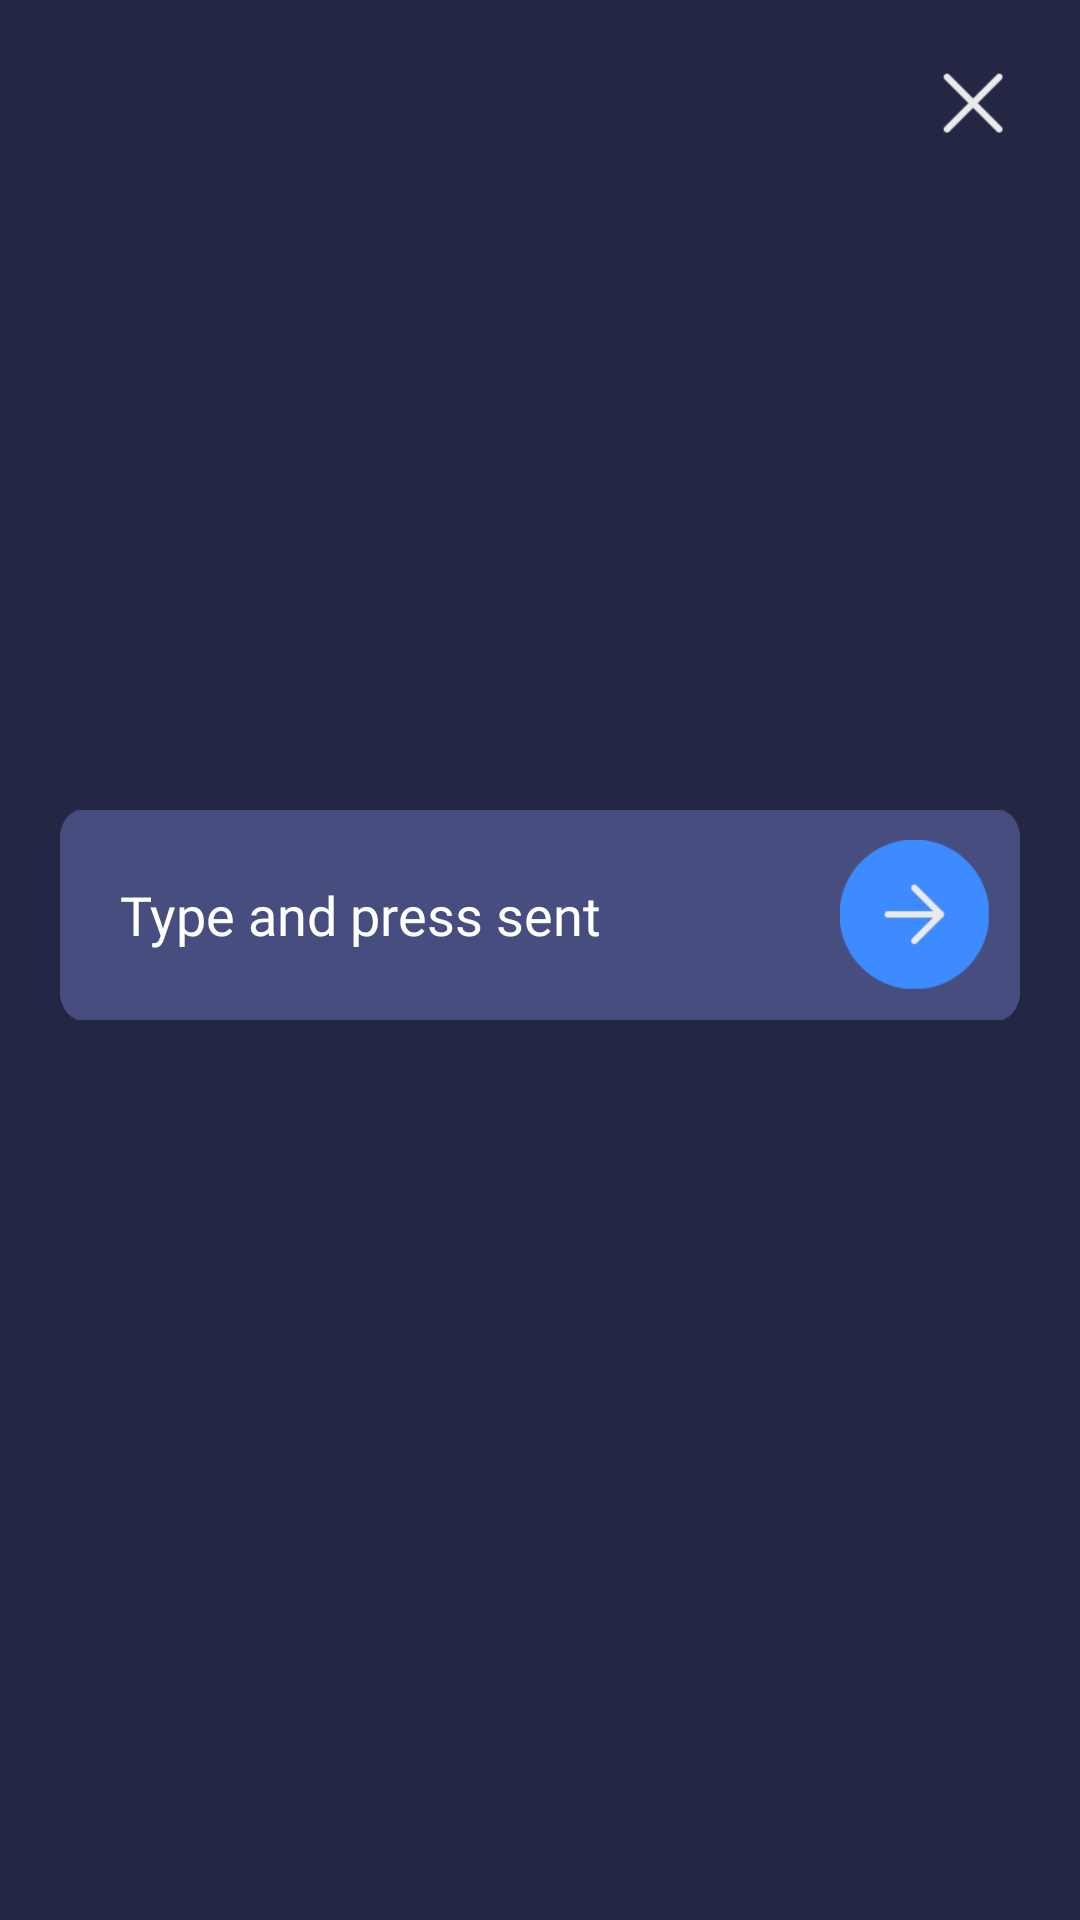

Icon click points for this 1080px×1920px phone screenshot, format (x,y):
close: (973,103)
keyboard next: (914,914)
